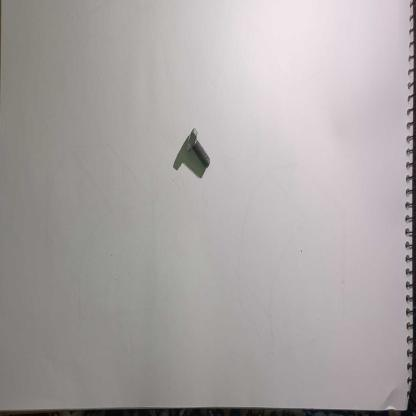Bolts: (184, 126, 212, 172)
